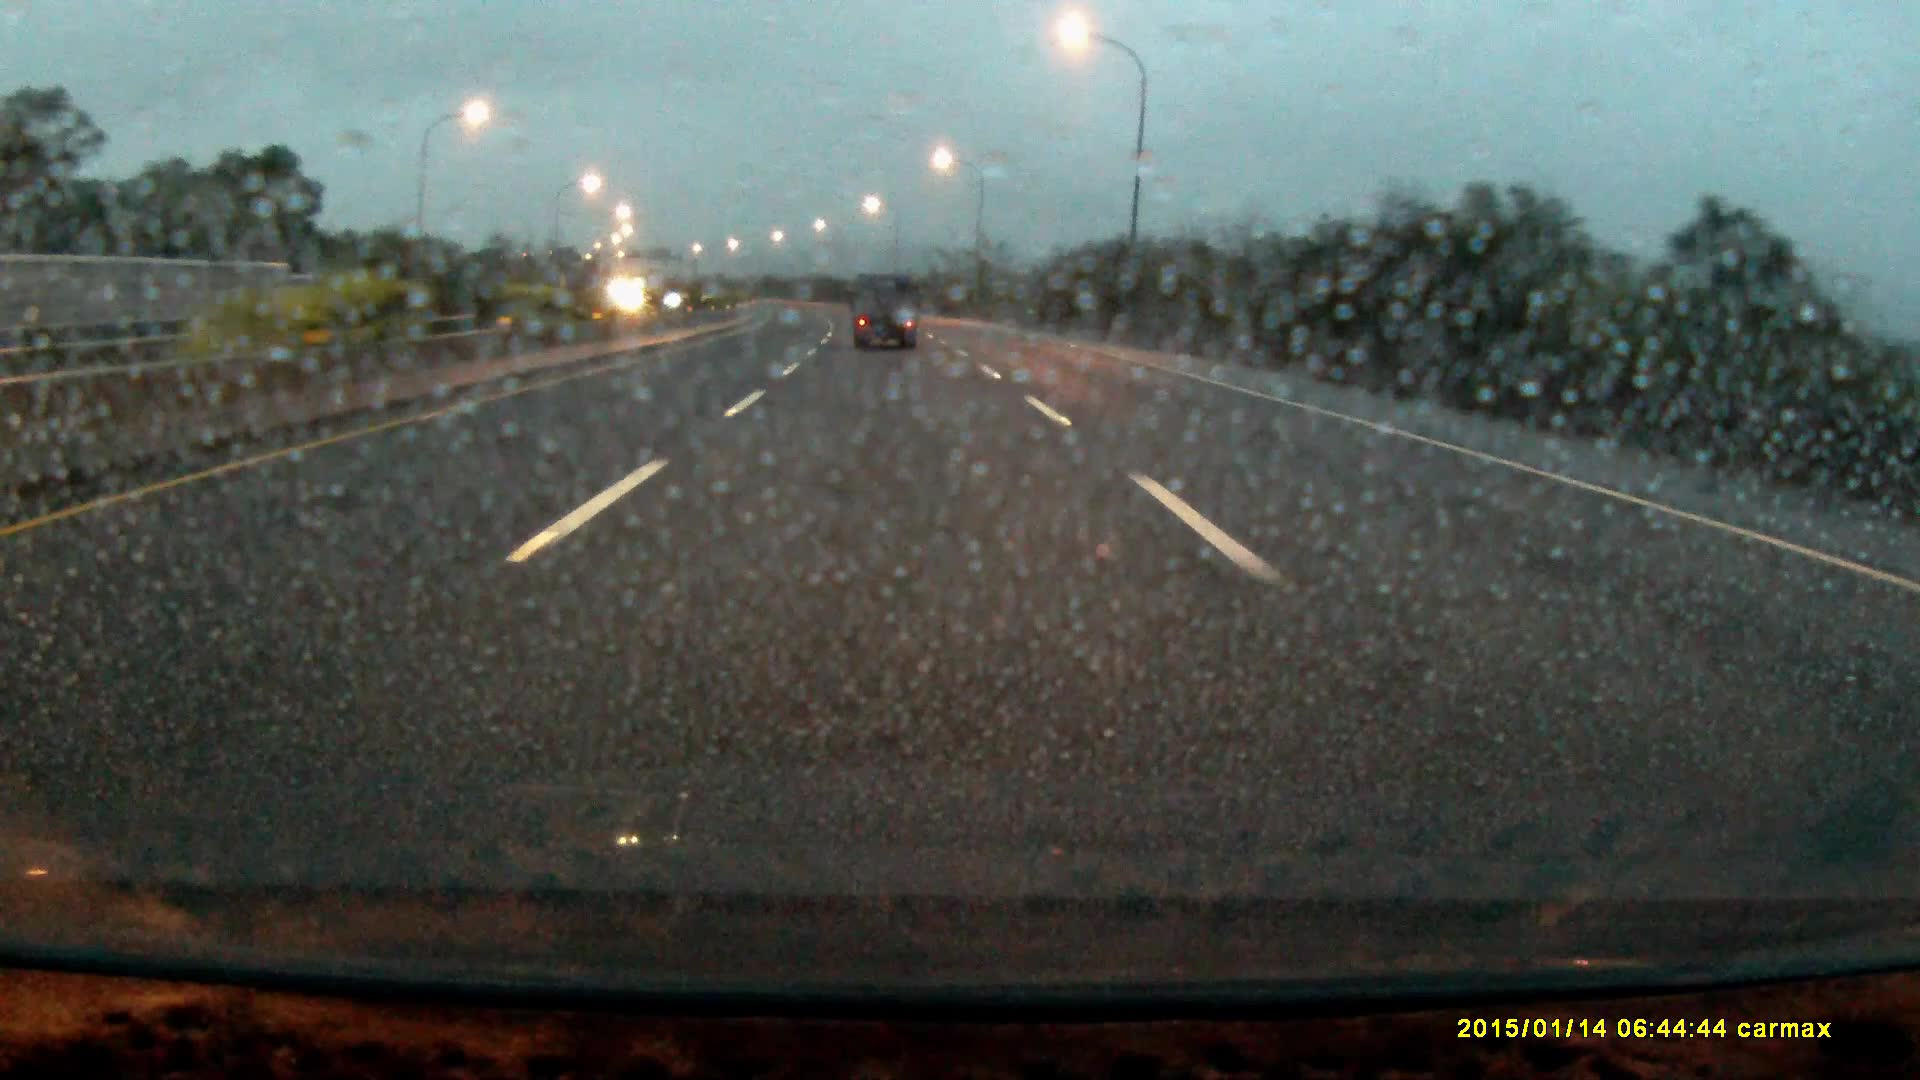vehicle: (851, 272, 920, 352)
